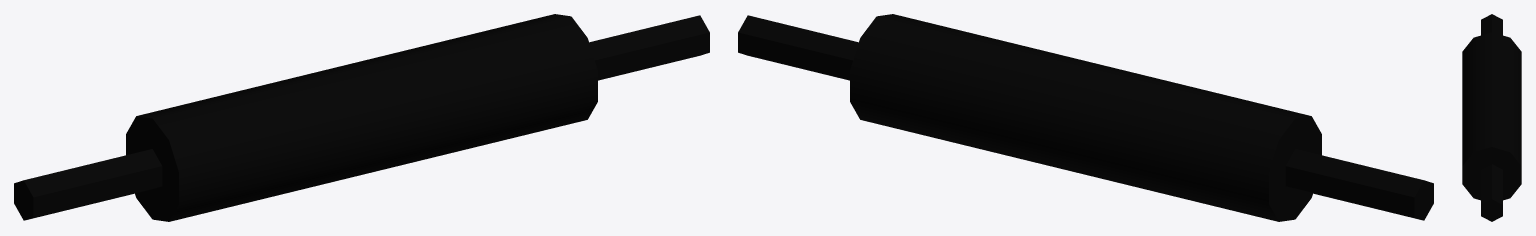
Rendered from SM_rolling_pin.fbx.
3 views of the same model, side by side, from view 1: azimuth 30°, elevation 25°; view 2: azimuth 150°, elevation 25°; view 3: azimuth 270°, elevation 25° (orthographic). The views are drawn at different scales.
Parts seen in each view (by area): view 1: rolling_pin; view 2: rolling_pin; view 3: rolling_pin.
Part boxes in pixels (bbox=[...]): rolling_pin: bbox=[14, 14, 709, 221]; rolling_pin: bbox=[738, 14, 1433, 221]; rolling_pin: bbox=[1462, 14, 1521, 221].
Bounding box in the file's own units: 0.42 × 0.06 × 0.0571.
